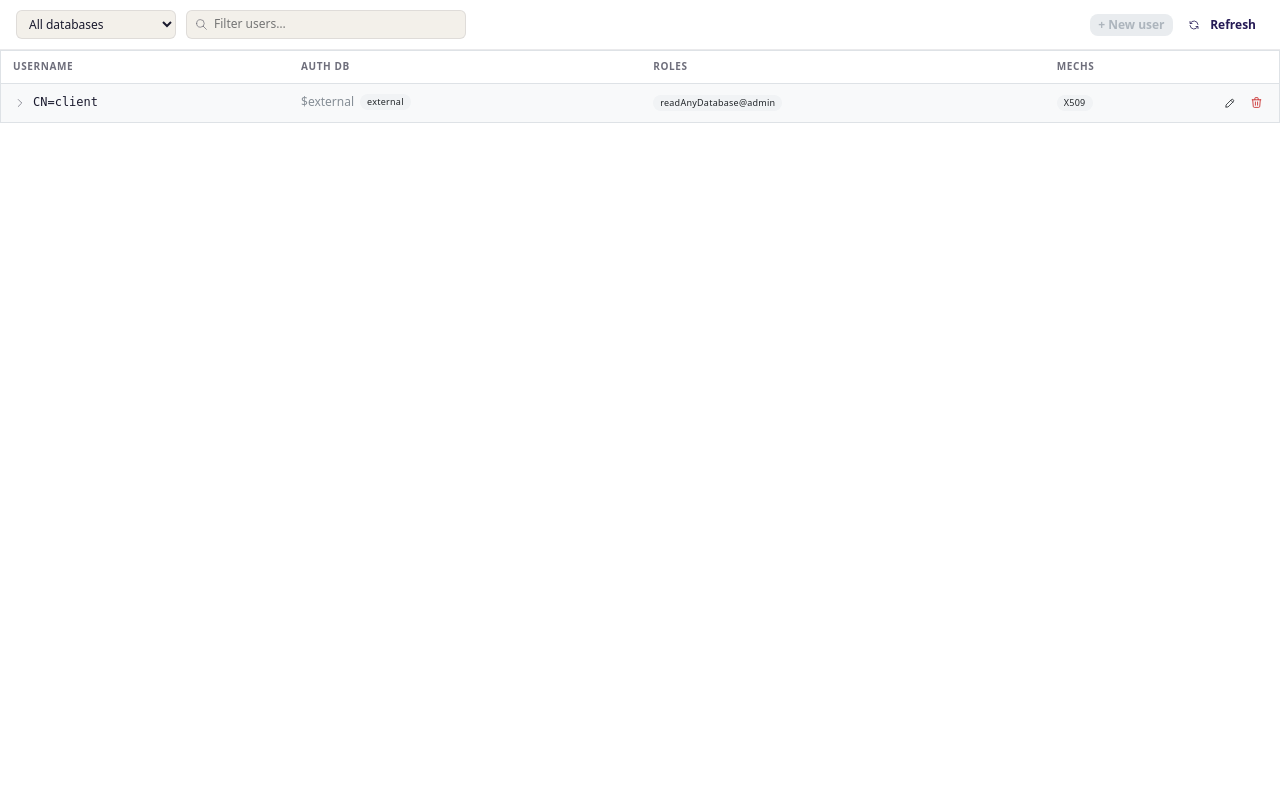
Test: UsersTab — edit drawer › hides password fields and keeps role-only edit for external users
Expected: the text "CN=client" is shown, [33,93,98,112]
Click the button named "Edit user CN=client" at (1230, 102), box [1219,92,1241,114]
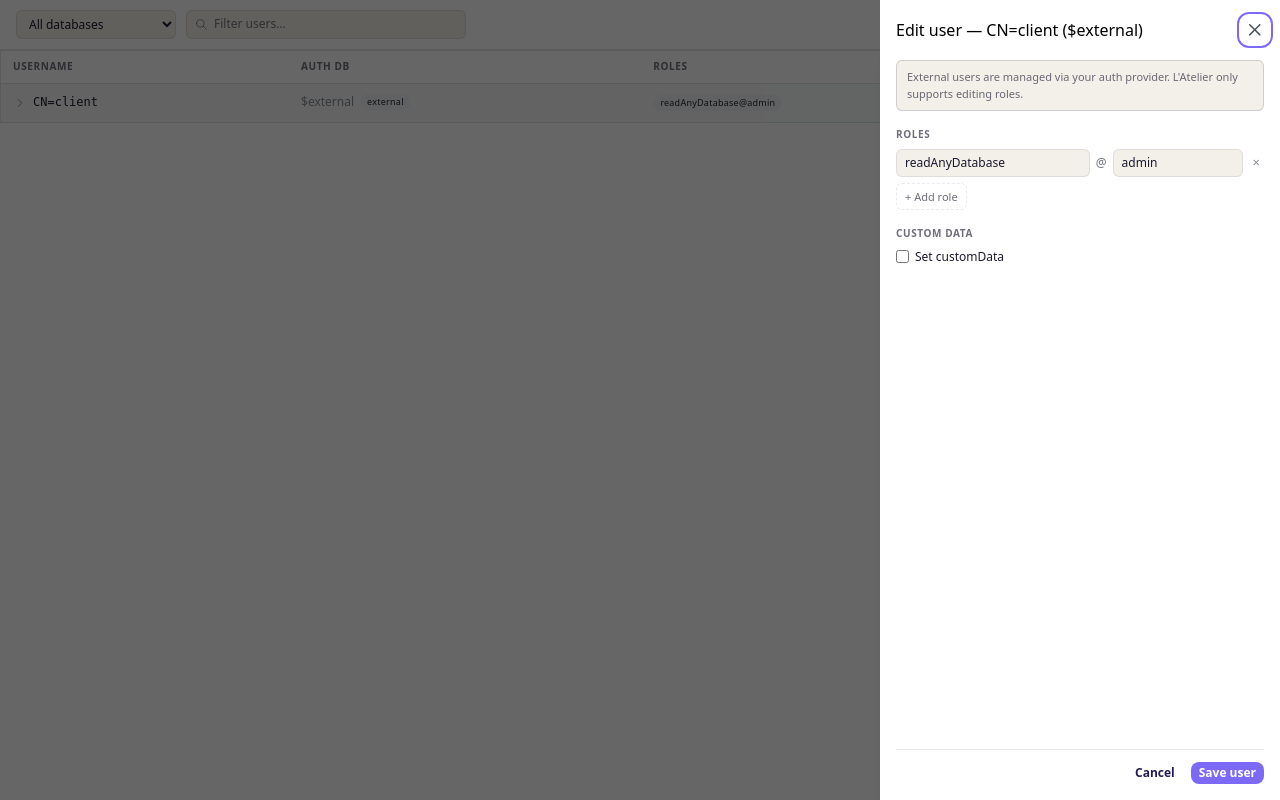
Now the heading "Edit user — CN=client ($external)" is shown, box [896,22,1143,38]
Now the text "External users are managed via your auth provider" is shown, box [907,69,1238,100]
